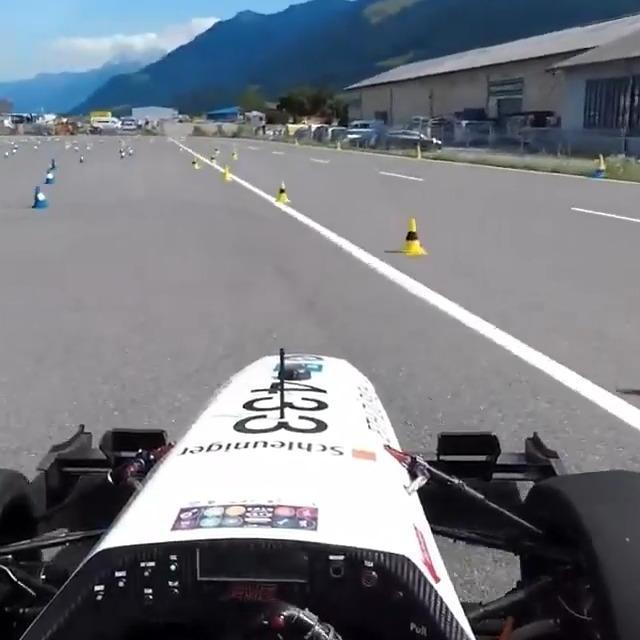Safety Cone: (397, 213, 428, 256), (30, 183, 50, 210), (273, 179, 293, 205), (593, 154, 608, 178), (220, 163, 234, 183), (43, 168, 57, 184), (191, 155, 201, 171), (415, 142, 422, 160), (231, 146, 238, 161), (335, 139, 343, 152), (210, 153, 217, 167), (78, 153, 85, 165), (3, 151, 10, 162), (120, 148, 126, 160), (128, 144, 133, 157), (293, 138, 298, 147)
vehicle: (0, 347, 640, 640)
